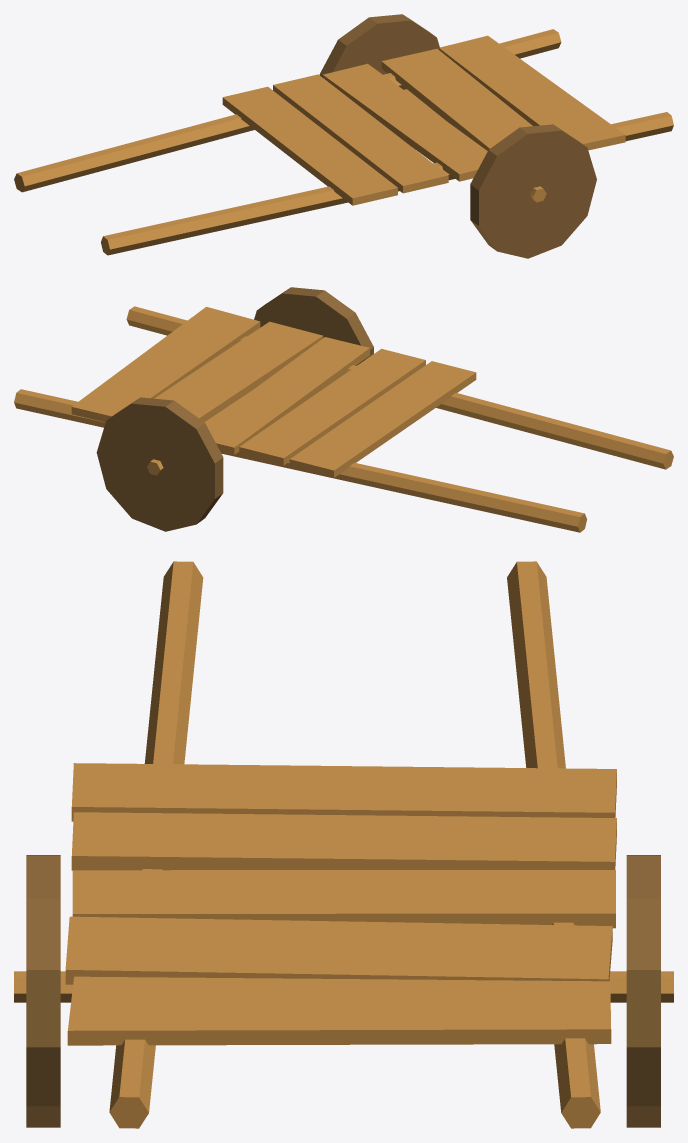
The model's file is wheeledcarrier_01.fbx.
3 renders of one model, top to bottom at view 1: azimuth 30°, elevation 25°; view 2: azimuth 150°, elevation 25°; view 3: azimuth 270°, elevation 25°, orthographic. The views are drawn at different scales.
Visible parts, largest first — view 1: WheeledCarrier_01; view 2: WheeledCarrier_01; view 3: WheeledCarrier_01.
Part boxes in pixels (<box>): WheeledCarrier_01: <box>14,14,673,258</box>; WheeledCarrier_01: <box>14,287,673,532</box>; WheeledCarrier_01: <box>14,561,673,1128</box>.
Size of the model in its own units: 94.12 by 48.95 by 20.4.
